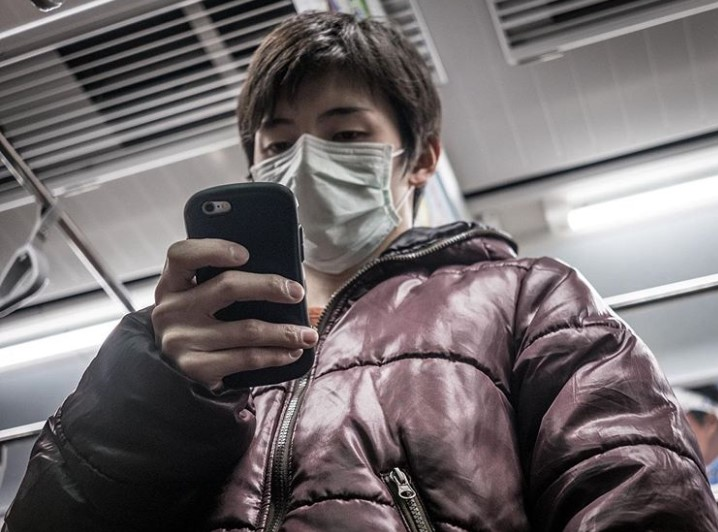face_with_mask: (242, 13, 443, 279)
